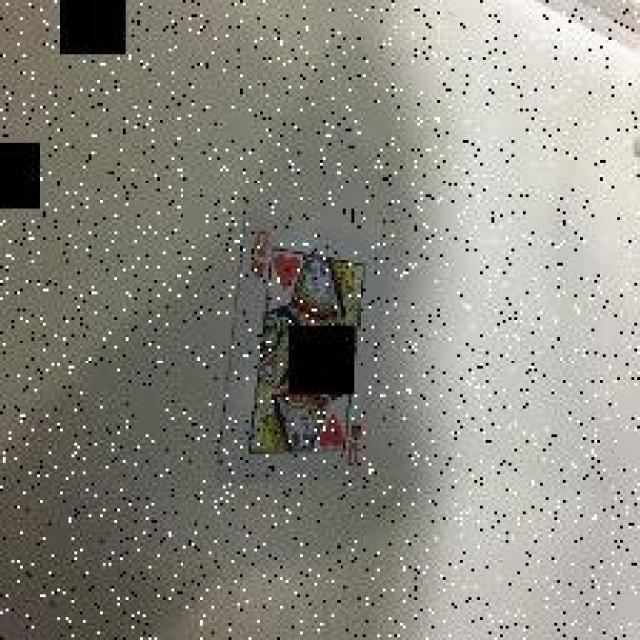Queen of hearts: (209, 222, 389, 475)
